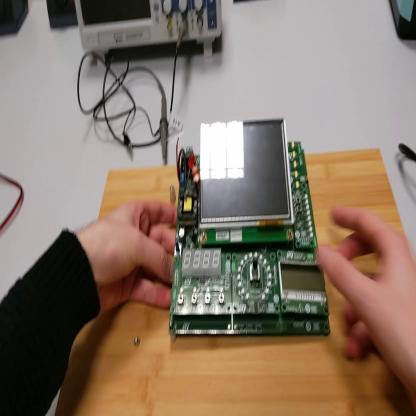hand: (321, 202, 416, 392), (84, 197, 179, 315)
low voltage board: (168, 123, 330, 341)
oscilloscope: (74, 1, 223, 67)
oscilloscope probe tip: (158, 81, 171, 165)
socket: (2, 2, 30, 37), (48, 3, 79, 31)
welder station: (391, 3, 416, 43)
working area: (56, 150, 397, 415)
